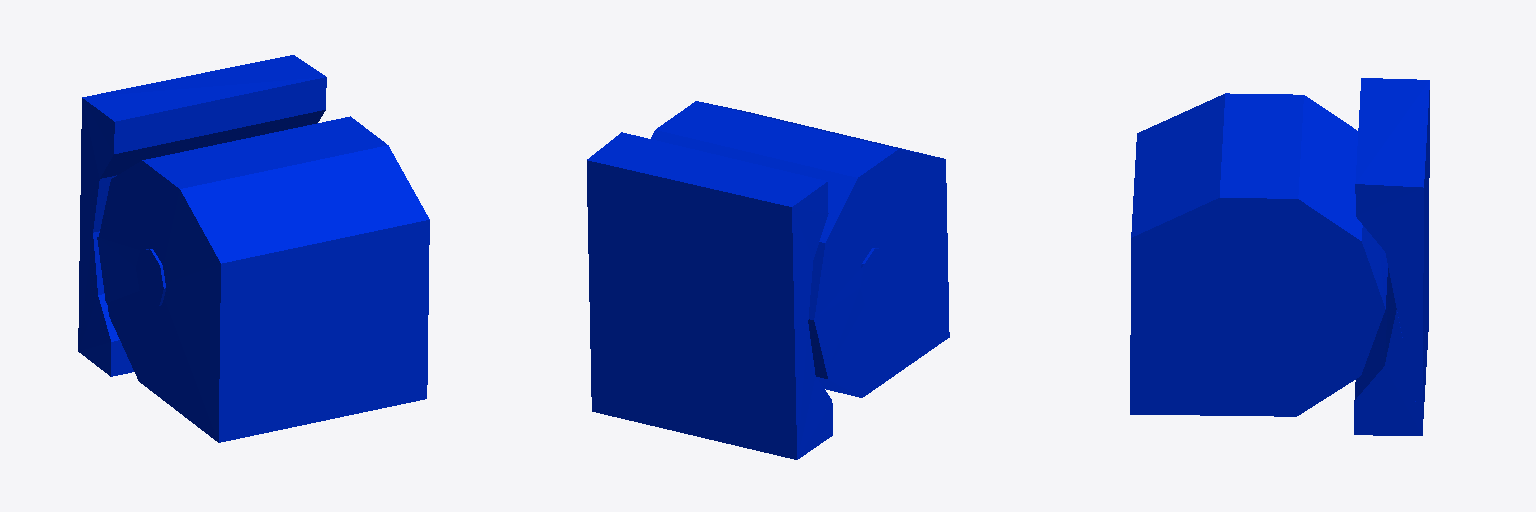
Rendered from UpperLeg.obj.
The picture shows the model from 3 angles: view 1: azimuth 30°, elevation 25°; view 2: azimuth 150°, elevation 25°; view 3: azimuth 270°, elevation 25°; orthographic projection.
Parts seen in each view (by area): view 1: default; view 2: default; view 3: default.
Part boxes in pixels (x1,y1,x2,y2): default: (78,55,429,442); default: (587,101,949,459); default: (1130,78,1429,435).
Size of the model in its own units: 0.6247 by 0.7036 by 0.7416.